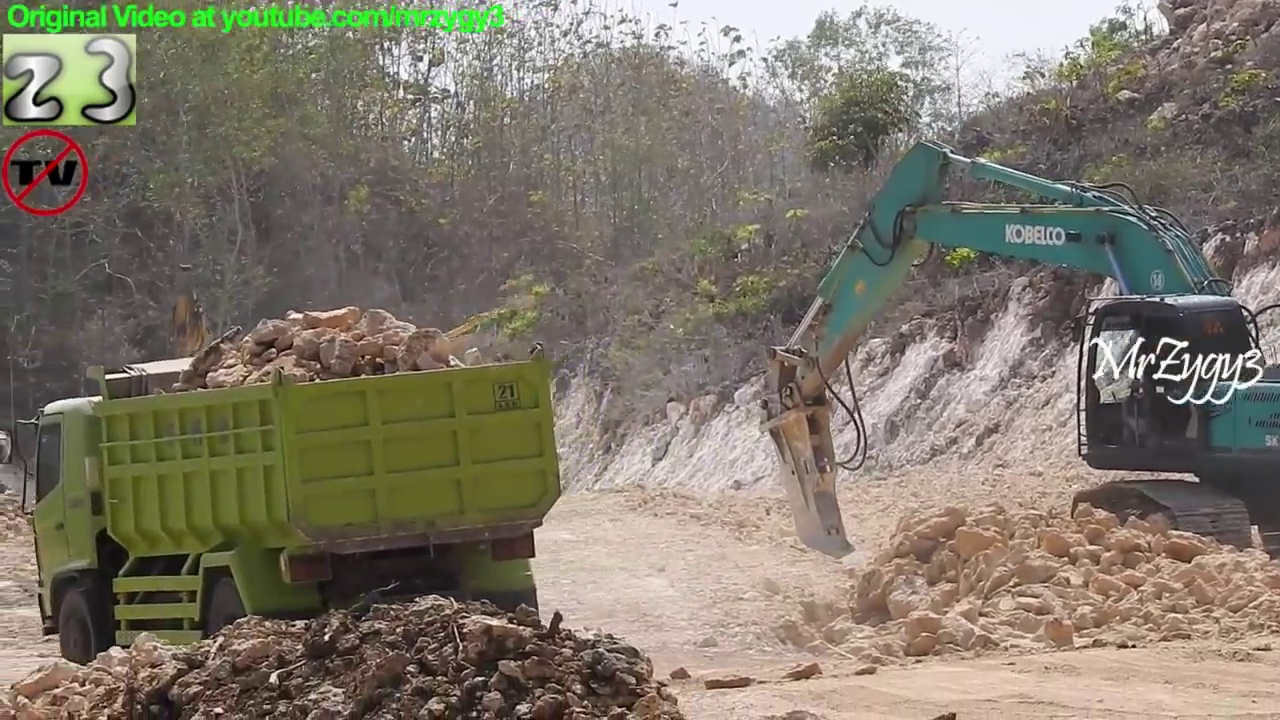excavator: (755, 133, 1280, 576), (353, 295, 555, 520), (116, 285, 278, 555)
truck: (1, 331, 574, 692)
